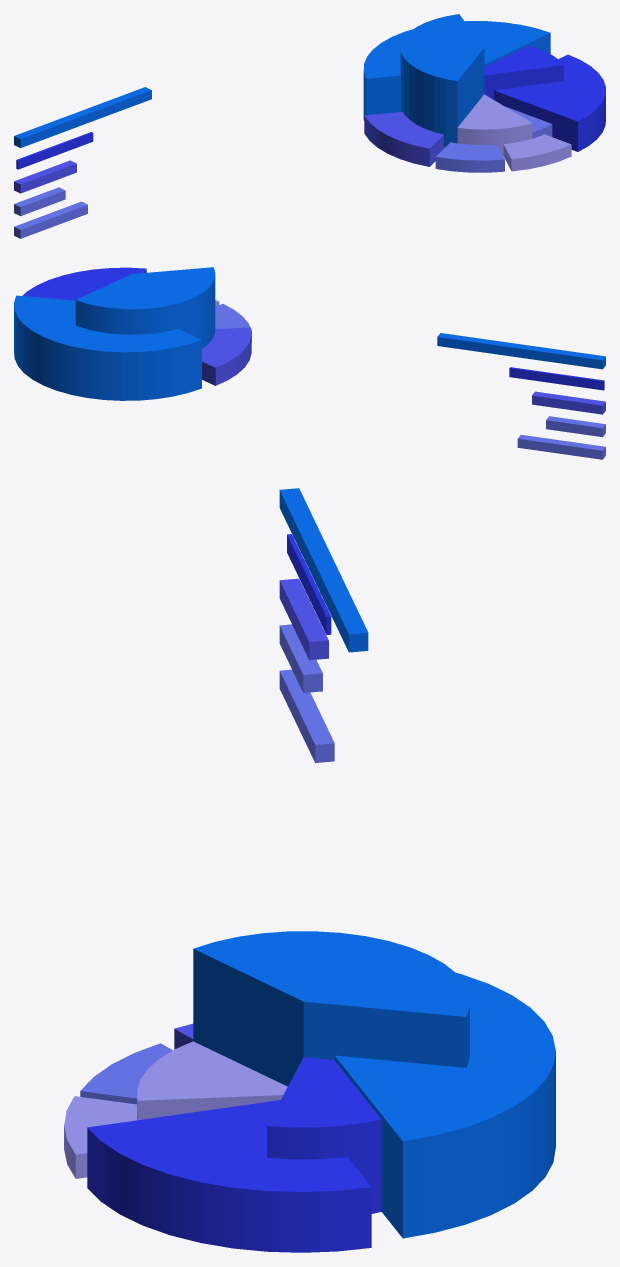
The model's file is GraficosBinacional.glb.
The picture shows the model from 3 angles, top to bottom: view 1: azimuth 30°, elevation 25°; view 2: azimuth 150°, elevation 25°; view 3: azimuth 270°, elevation 25°; orthographic projection. The views are drawn at different scales.
Parts seen in each view (by area): view 1: pCylinder2, pCylinder3.001, pCylinder2.001, pCylinder6.001, pCylinder6, pCylinder3, pCube1, pCylinder5.001, pCylinder4.001, pCube4, pCube3, pCube2 (+2 smaller); view 2: pCylinder2.001, pCylinder2, pCube1, pCylinder6.001, pCylinder3.001, pCube4, pCube2, pCube3, pCube5, pCylinder3, pCylinder5.001; view 3: pCylinder2.001, pCylinder2, pCylinder3.001, pCylinder3, pCylinder6, pCube1, pCylinder4.001, pCylinder5.001, pCube4, pCube3, pCube5, pCube2.
Boxes of the visible parts, x1,y1,x2,y2 form: pCylinder2: [400, 14, 484, 147]; pCylinder3.001: [494, 54, 605, 151]; pCylinder2.001: [363, 21, 550, 120]; pCylinder6.001: [364, 112, 443, 166]; pCylinder6: [457, 94, 532, 156]; pCylinder3: [484, 46, 563, 99]; pCube1: [14, 87, 151, 148]; pCylinder5.001: [435, 142, 504, 172]; pCylinder4.001: [503, 134, 571, 171]; pCube4: [14, 201, 87, 238]; pCube3: [14, 160, 76, 193]; pCube2: [16, 132, 93, 169]; pCylinder2.001: [14, 295, 201, 400]; pCylinder2: [75, 267, 215, 348]; pCube1: [437, 333, 605, 369]; pCylinder6.001: [202, 327, 251, 385]; pCylinder3.001: [22, 267, 146, 298]; pCube4: [517, 434, 605, 459]; pCube2: [509, 367, 604, 390]; pCube3: [532, 391, 605, 414]; pCube5: [546, 416, 605, 437]; pCylinder3: [49, 278, 98, 300]; pCylinder5.001: [215, 304, 251, 342]; pCylinder2.001: [334, 973, 555, 1238]; pCylinder2: [193, 931, 469, 1086]; pCylinder3.001: [87, 1100, 371, 1252]; pCylinder3: [267, 1057, 381, 1213]; pCylinder6: [137, 1041, 287, 1119]; pCube1: [279, 488, 368, 652]; pCylinder4.001: [64, 1096, 136, 1178]; pCylinder5.001: [80, 1043, 172, 1104]; pCube4: [279, 669, 334, 762]; pCube3: [279, 578, 328, 660]; pCube5: [279, 624, 322, 692]; pCube2: [287, 534, 331, 634].
Size of the model in its own units: 179 by 30.22 by 66.27.
